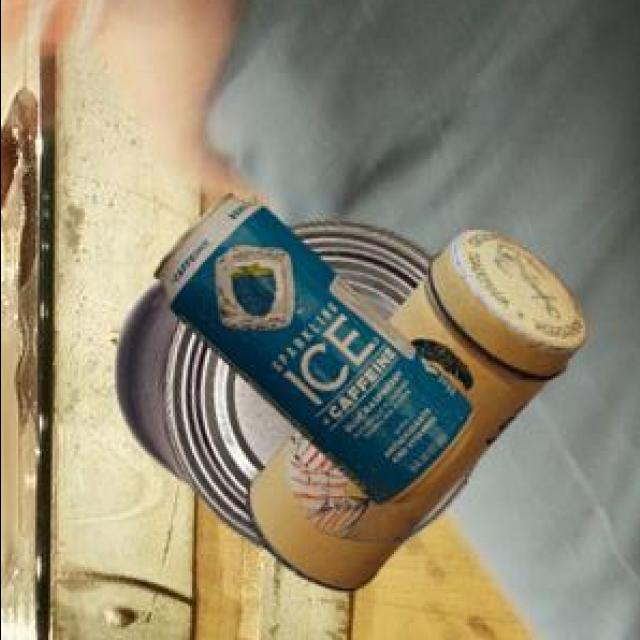logam: (242, 233, 583, 594), (111, 224, 474, 551), (151, 197, 469, 508)
